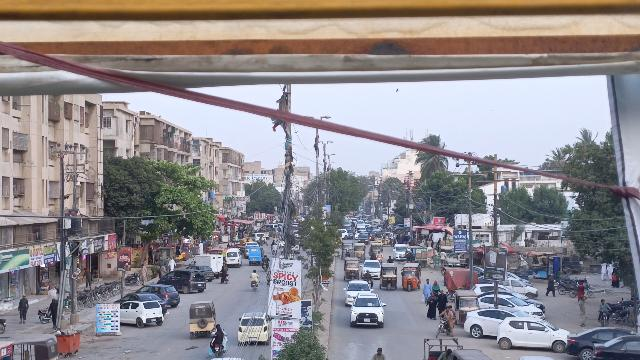Bike: (435, 317, 457, 337), (212, 339, 224, 357), (250, 280, 260, 294)
Car: (492, 315, 570, 353), (561, 323, 624, 359), (462, 306, 528, 338), (349, 291, 388, 330), (120, 299, 165, 332), (156, 269, 208, 294), (236, 312, 274, 346), (139, 281, 184, 309), (341, 279, 374, 307)
Cart: (423, 336, 463, 360)
Person: (575, 294, 592, 327), (15, 291, 30, 325), (439, 306, 456, 327), (420, 274, 432, 301), (431, 277, 443, 298), (214, 324, 224, 345), (249, 269, 260, 282)
Rickshaw: (186, 299, 219, 339), (453, 290, 480, 325), (400, 261, 421, 294), (379, 263, 399, 292), (340, 256, 362, 281)
Truck: (190, 252, 226, 274)
